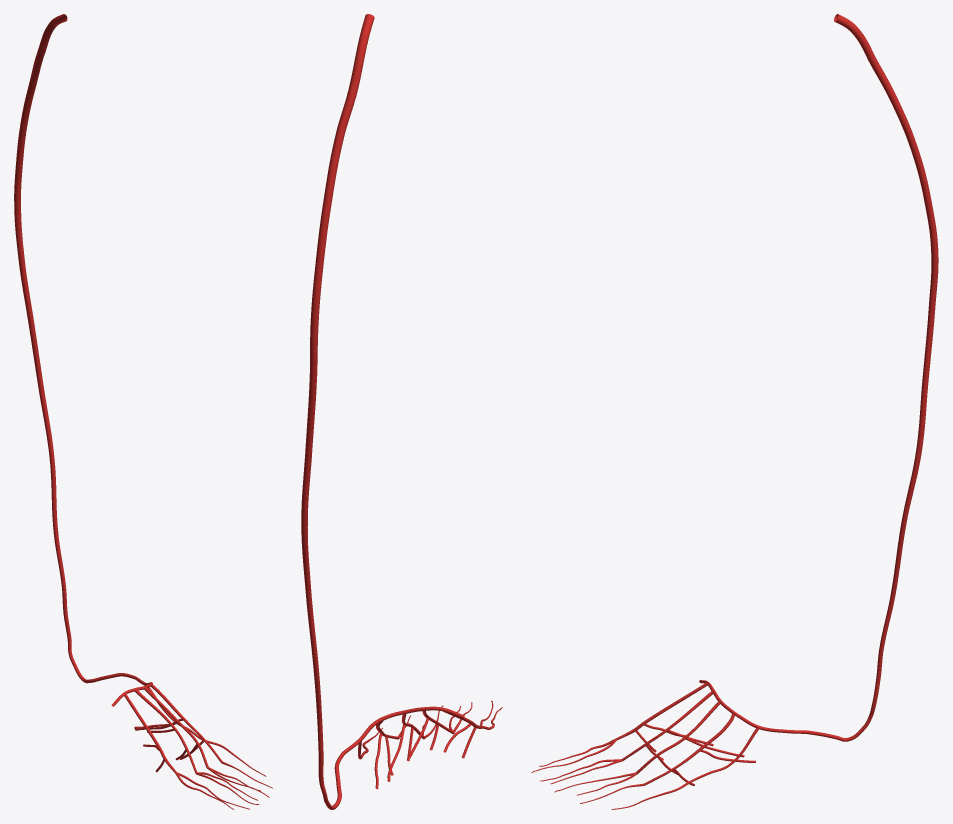
Rendered from circulatorio-small-saphenous-vein-l.glb.
The picture shows the model from 3 angles, left to right: view 1: azimuth 30°, elevation 25°; view 2: azimuth 150°, elevation 25°; view 3: azimuth 270°, elevation 25°; orthographic projection. The views are drawn at different scales.
Parts seen in each view (by area): view 1: Small saphenous vein.l, Dorsal metatarsal veins.l, Dorsal digital veins of foot.l; view 2: Small saphenous vein.l, Intercapitular veins of foot.l, Dorsal venous arch of foot.l, Dorsal metatarsal veins.l, Dorsal digital veins of foot.l; view 3: Small saphenous vein.l, Dorsal metatarsal veins.l, Dorsal digital veins of foot.l, Intercapitular veins of foot.l.
Boxes of the visible parts, x1,y1,x2,y2 form: Small saphenous vein.l: [14, 14, 117, 683]; Dorsal metatarsal veins.l: [124, 684, 229, 773]; Dorsal digital veins of foot.l: [175, 751, 272, 809]; Small saphenous vein.l: [301, 14, 374, 809]; Intercapitular veins of foot.l: [374, 718, 476, 789]; Dorsal venous arch of foot.l: [334, 706, 464, 769]; Dorsal metatarsal veins.l: [358, 711, 485, 759]; Dorsal digital veins of foot.l: [367, 700, 502, 742]; Small saphenous vein.l: [810, 14, 938, 741]; Dorsal metatarsal veins.l: [616, 682, 758, 794]; Dorsal digital veins of foot.l: [531, 738, 664, 809]; Intercapitular veins of foot.l: [635, 724, 755, 785].
Size of the model in its own units: 0.0792 by 0.4771 by 0.2358.
